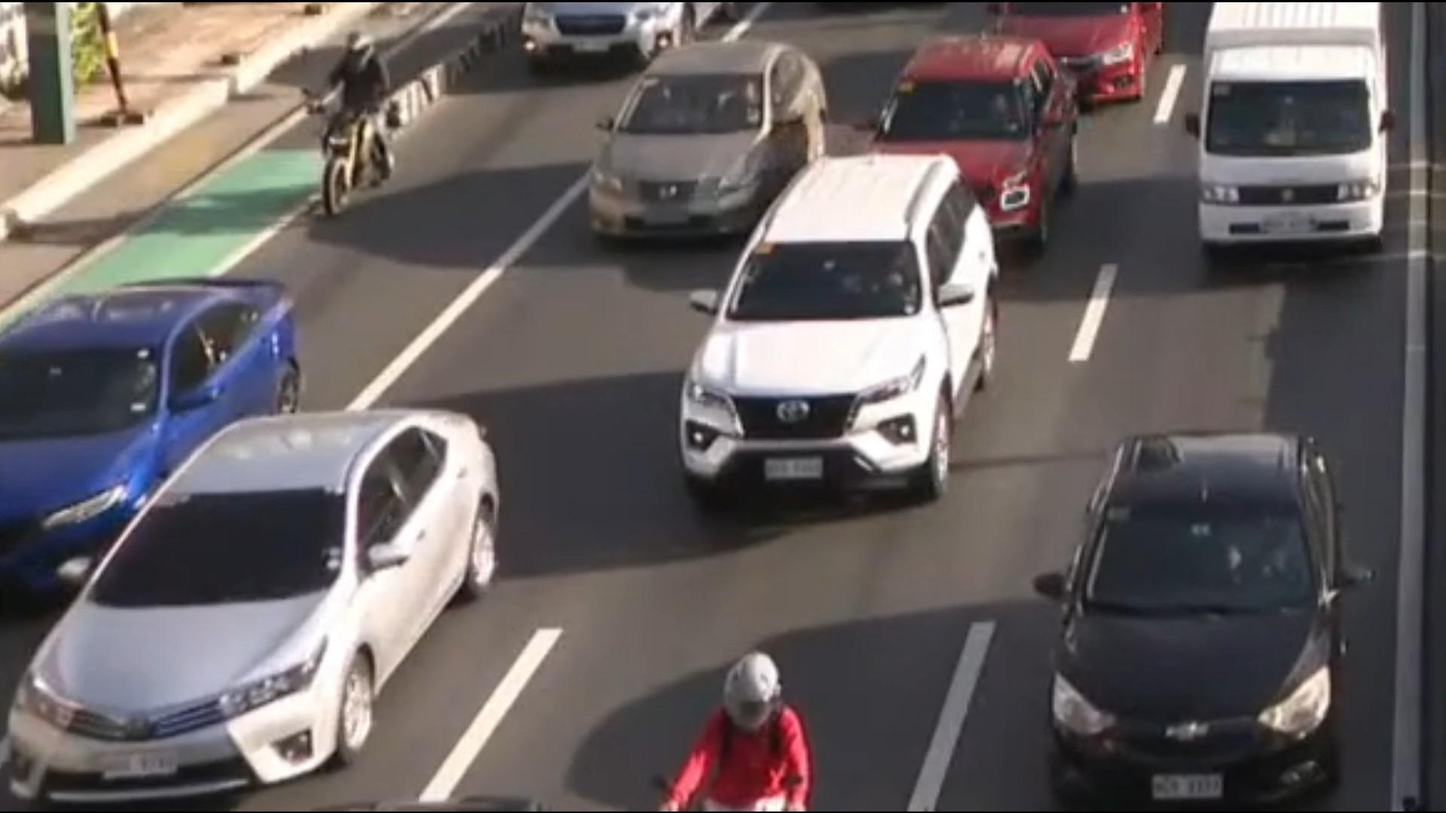Motorcycle: (655, 625, 857, 813), (269, 23, 426, 226)
SUV: (997, 414, 1386, 813), (673, 133, 1036, 539), (828, 30, 1096, 259)
Sedan: (0, 388, 522, 813), (0, 264, 315, 587), (516, 19, 844, 261)
Truck: (1171, 0, 1417, 285)
